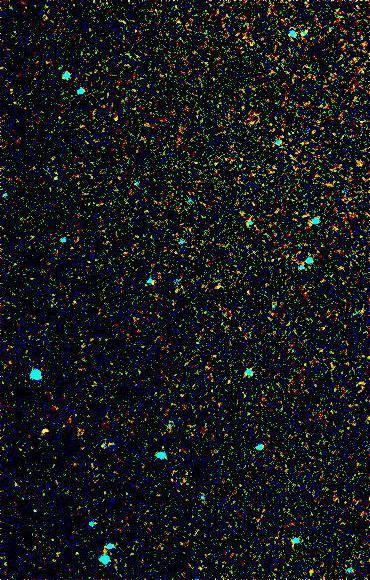star: (29, 415, 59, 445)
